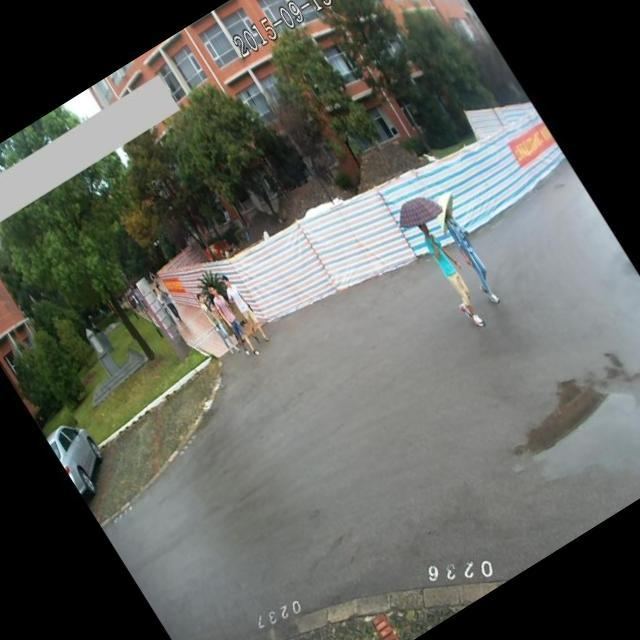person: (426, 191, 518, 313), (409, 214, 498, 336), (198, 271, 265, 364), (214, 266, 276, 353), (191, 286, 241, 356), (155, 280, 193, 334), (150, 284, 184, 333)
